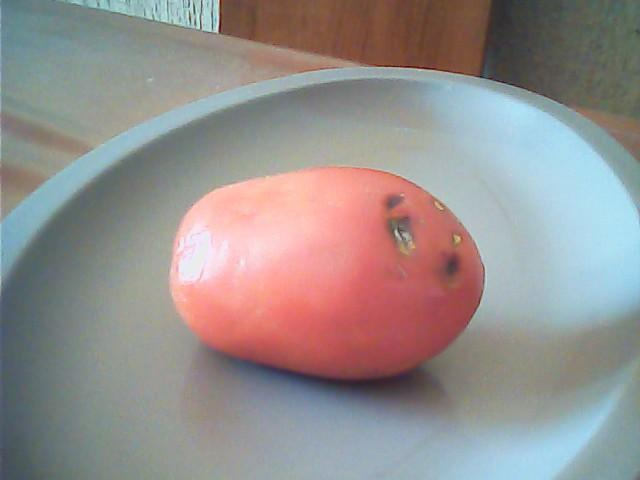defectuoso: (163, 162, 488, 377)
